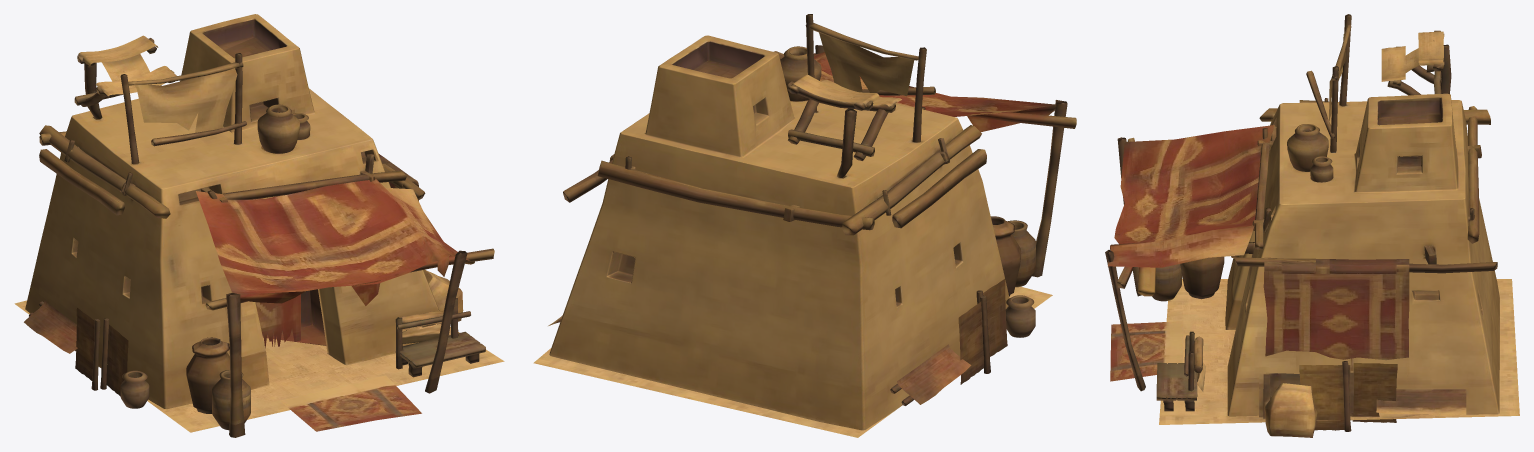
File: tripo_convert_eeffef21-9d63-4e6b-a6bd-55c02eb268b4.fbx
3 renders of one model, left to right at view 1: azimuth 30°, elevation 25°; view 2: azimuth 150°, elevation 25°; view 3: azimuth 270°, elevation 25°, orthographic. The views are drawn at different scales.
Parts seen in each view (by area): view 1: tripo_node_eeffef21; view 2: tripo_node_eeffef21; view 3: tripo_node_eeffef21.
Boxes of the visible parts, <box> form: tripo_node_eeffef21: <box>14,14,504,437</box>; tripo_node_eeffef21: <box>533,14,1076,437</box>; tripo_node_eeffef21: <box>1105,14,1519,437</box>.
Bounding box in the file's own units: 0.9604 × 0.7593 × 0.9995.
Materials: 1 (1 with a texture image).
